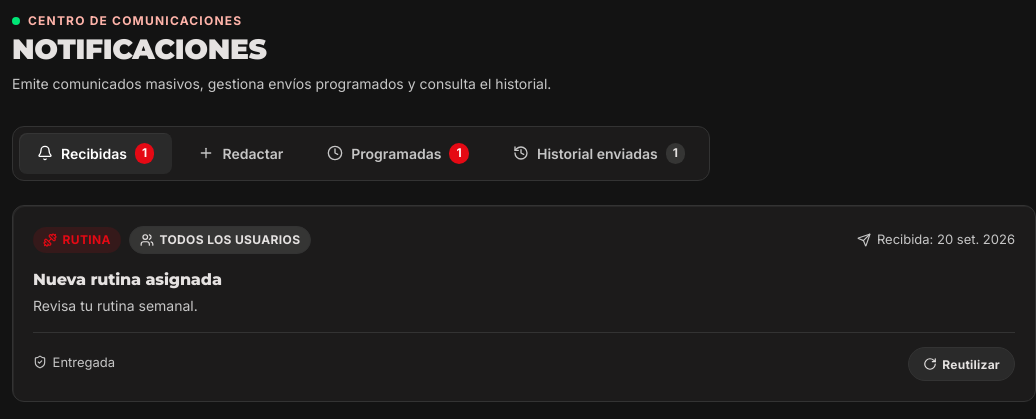
Test: NotificacionesView › permite alternar a la pestaña de Programadas y muestra las notificaciones
The image size is (1036, 419).
Click the button with class "notificaciones__tab" showing "Programadas 1" at [398, 153], box [309,133,487,174]
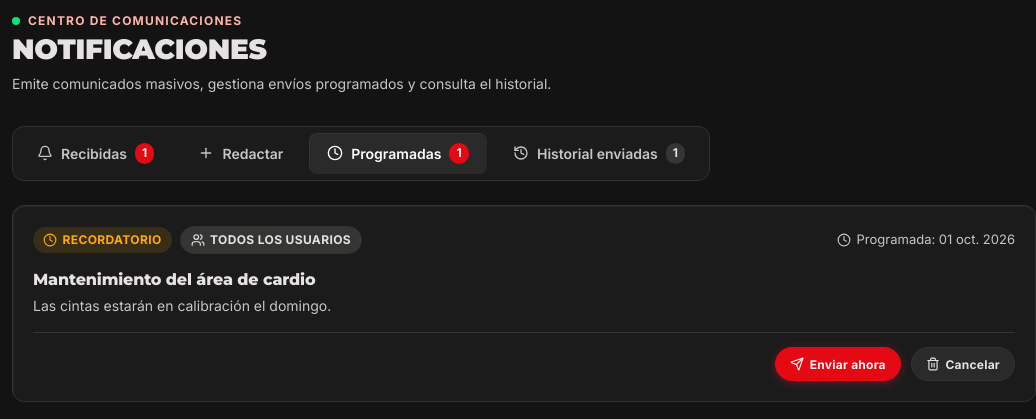
Expected: the text "Mantenimiento del área de cardio" is shown, [33,270,316,289]
